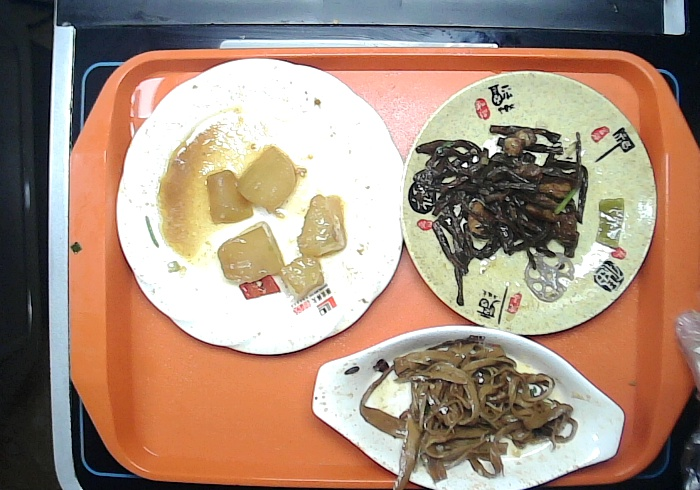NLDX-Bai_Zhe_Yuan_Pan: (111, 51, 410, 362)
NLDX-Fu_Zi_Yuan_Pan: (393, 64, 659, 344)
NLDX-Yu_Pan: (305, 319, 629, 487)
